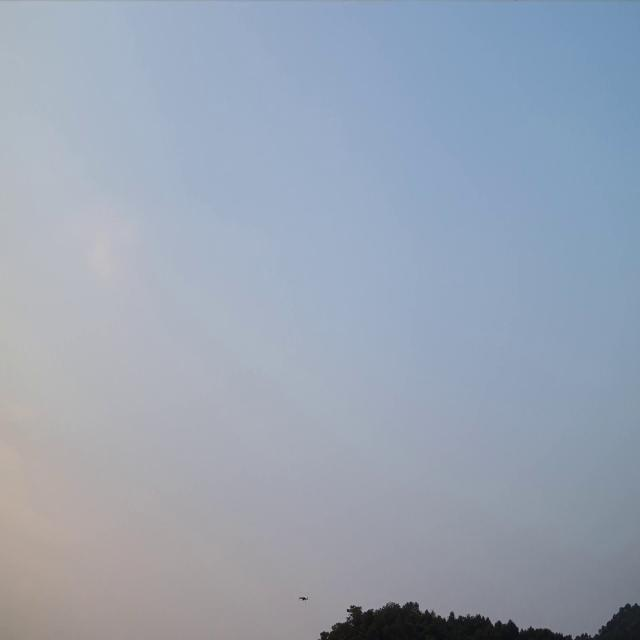UAV: (298, 594, 309, 602)
